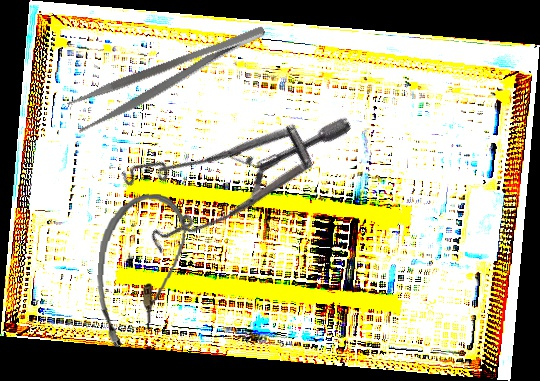Cannula: (91, 189, 189, 353)
Dressing Forceps: (65, 21, 275, 134)
Speculum: (96, 30, 355, 297)
